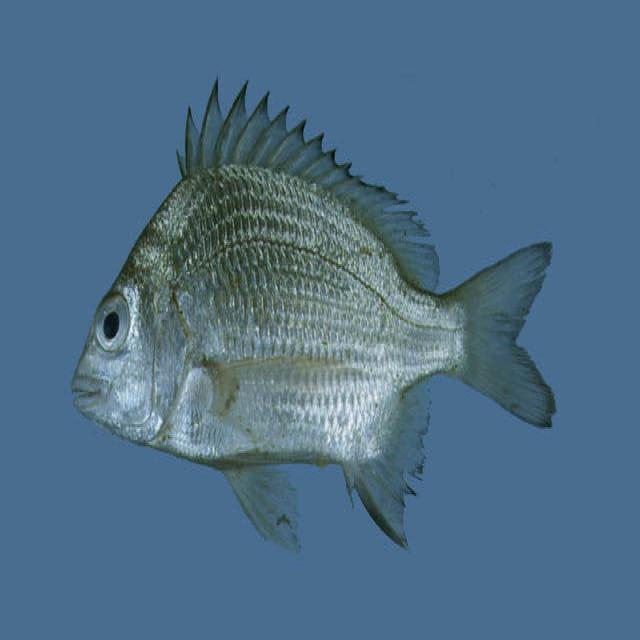ikan: (70, 74, 557, 554)
